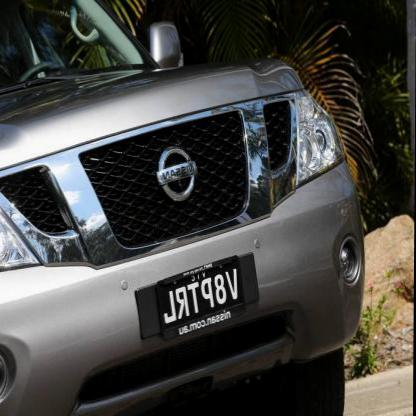License_Plate: (154, 255, 245, 341)
